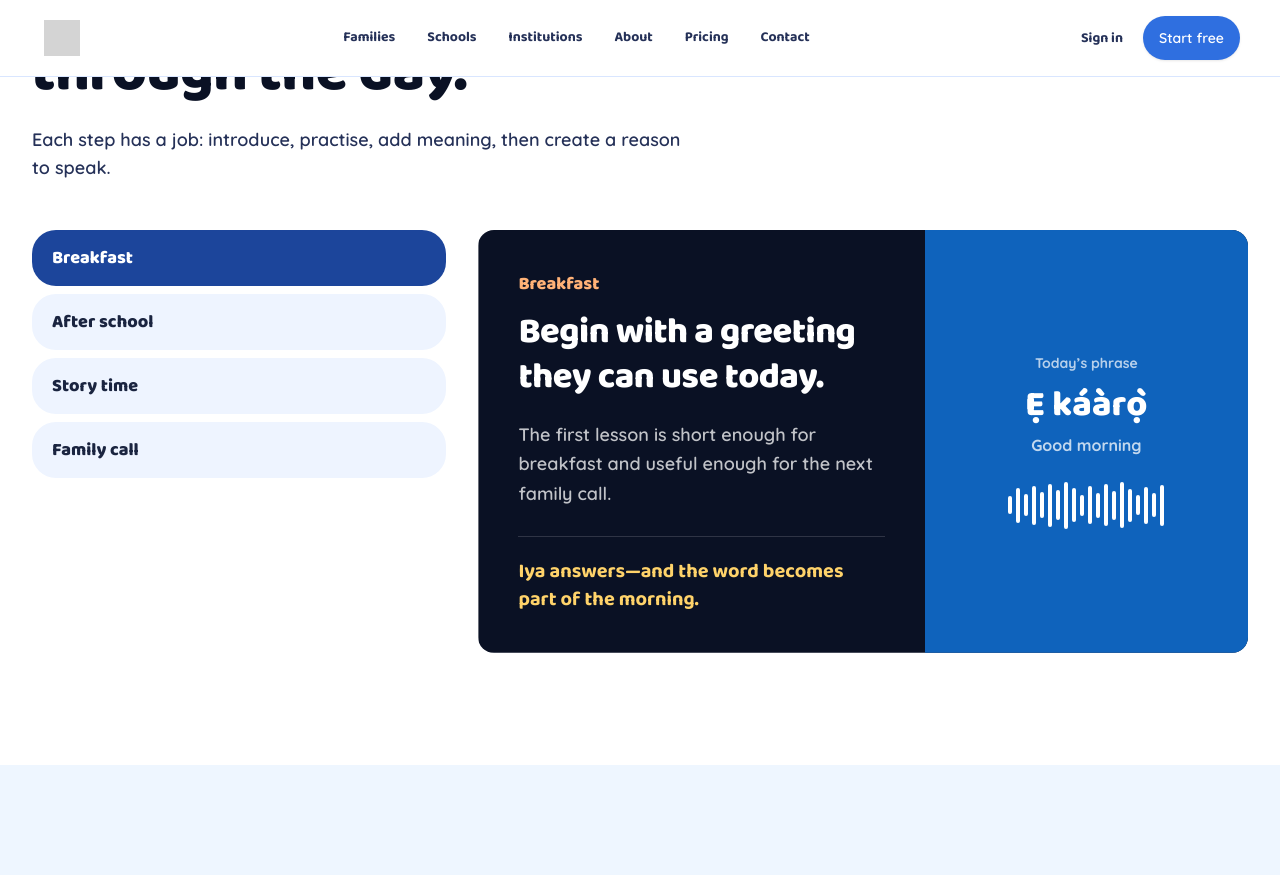
Test: landing concepts › V4 moves a phrase into a real family moment
(page scrolled)
Click the tab "Family call" at (95, 450), box [32,422,446,478]
(page scrolled)
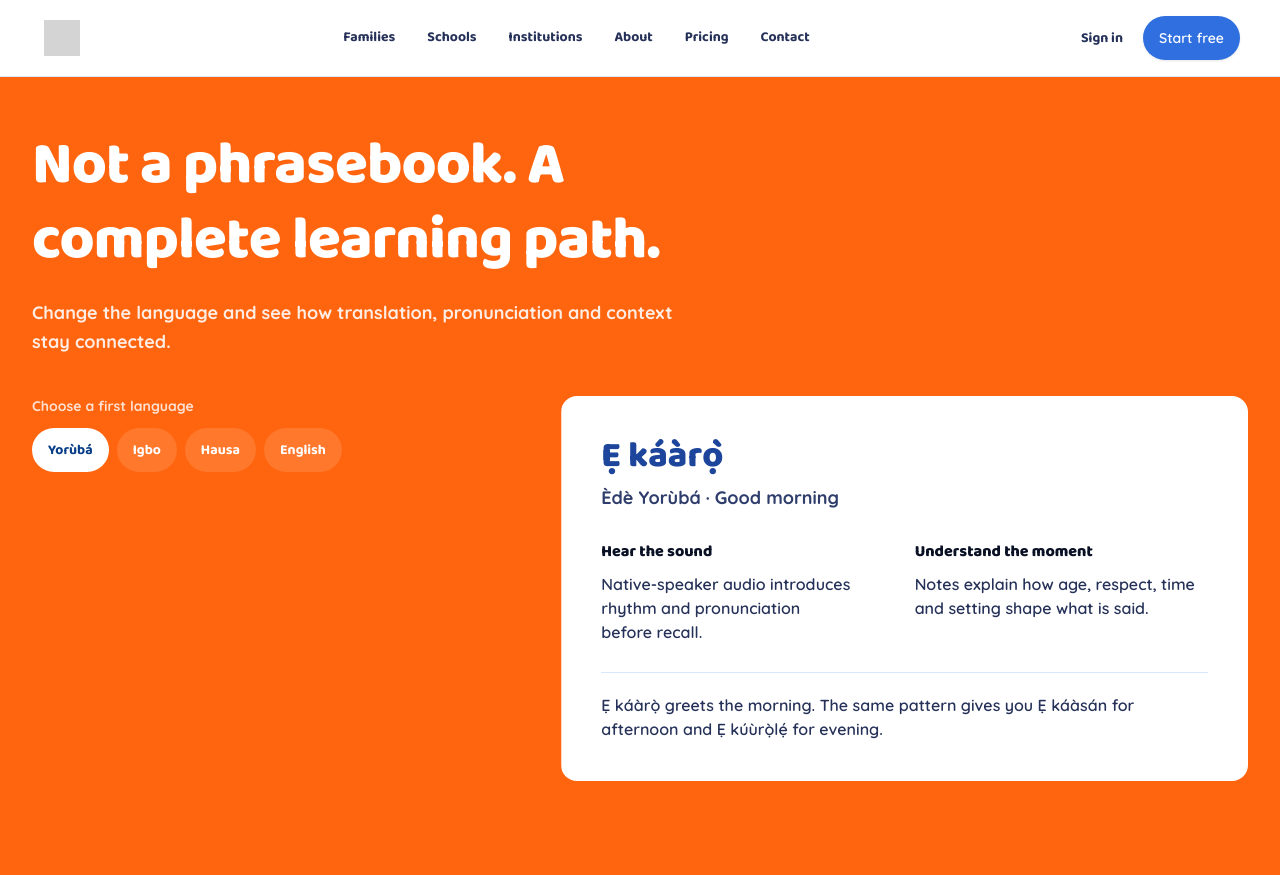
Click the button "Hausa" at (220, 450), box [185,428,256,472]
(page scrolled)
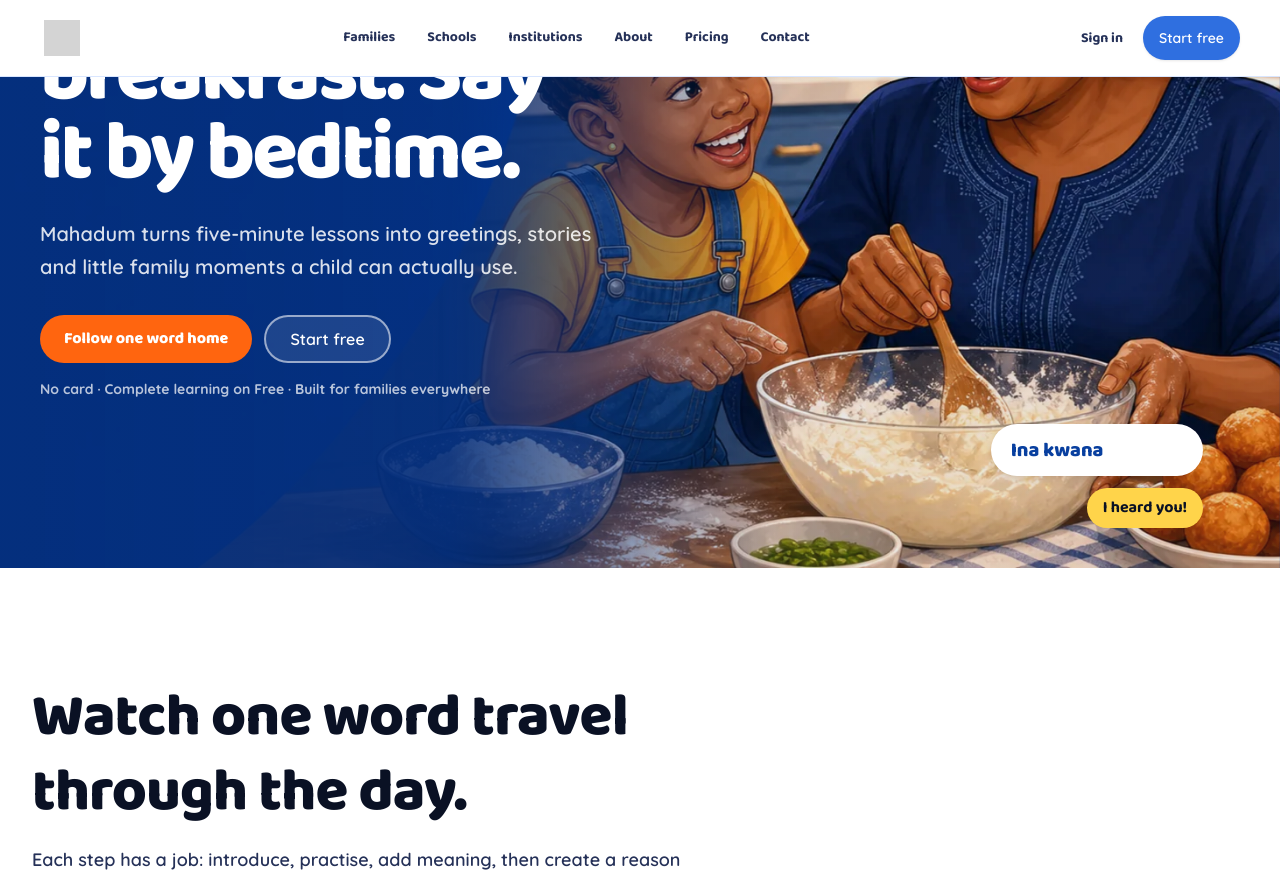
Expected: the text "Ina kwana" is shown, [991,424,1203,476]
